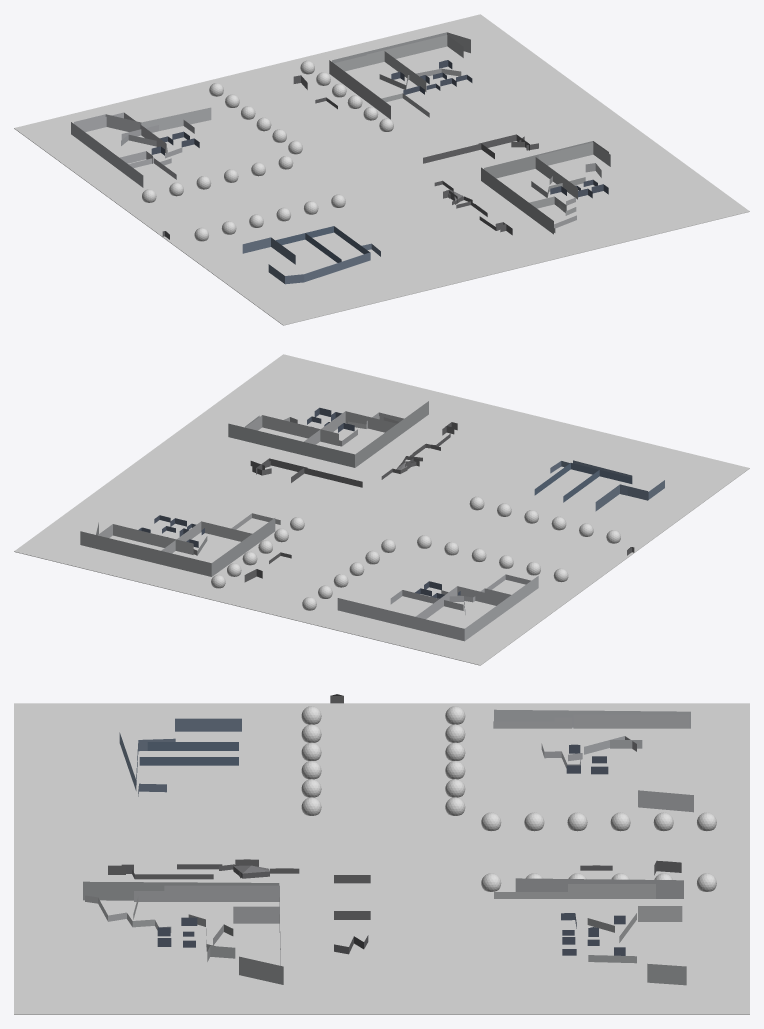
Rendered from scene_1db926d5-9342-4db4-9378-faf00d26190b.glb.
3 views of the same model, one above another, from view 1: azimuth 30°, elevation 25°; view 2: azimuth 150°, elevation 25°; view 3: azimuth 270°, elevation 25° (orthographic). The views are drawn at different scales.
Parts seen in each view (by area): view 1: Ground_Base, BLD-001, BLD-045, BLD-010, BLD-009, BLD-013, BLD-041, BLD-044, BLD-003, BLD-039; view 2: Ground_Base, BLD-045, BLD-010, BLD-001, BLD-044, BLD-009, BLD-046, BLD-013, BLD-003; view 3: Ground_Base, BLD-045, BLD-010, BLD-001, BLD-046, BLD-003, BLD-013, BLD-039, BLD-043, BLD-044, BLD-042, BLD-015 (+2 smaller).
Part boxes in pixels (x1,y1,x2,y2): Ground_Base: (14,14,749,325); BLD-001: (71,107,211,187); BLD-045: (481,141,608,234); BLD-010: (329,32,470,119); BLD-009: (366,35,463,65); BLD-013: (334,51,426,91); BLD-041: (268,252,370,284); BLD-044: (538,142,610,166); BLD-003: (75,112,166,153); BLD-039: (242,237,295,264); Ground_Base: (14,354,749,665); BLD-045: (228,401,428,467); BLD-010: (80,518,275,576); BLD-001: (337,576,538,641); BLD-044: (245,415,338,445); BLD-009: (98,524,193,554); BLD-046: (304,411,396,444); BLD-013: (161,521,252,553); BLD-003: (415,586,506,619); Ground_Base: (14,703,749,1014); BLD-045: (83,881,283,984); BLD-010: (515,878,686,985); BLD-001: (494,709,693,812); BLD-046: (164,885,279,901); BLD-003: (573,714,689,728); BLD-013: (568,884,655,898); BLD-039: (175,718,241,731); BLD-043: (139,757,238,765); BLD-044: (233,906,279,923); BLD-042: (147,742,238,750); BLD-015: (587,913,636,963).
Size of the model in its own units: 410 by 16.39 by 410.
